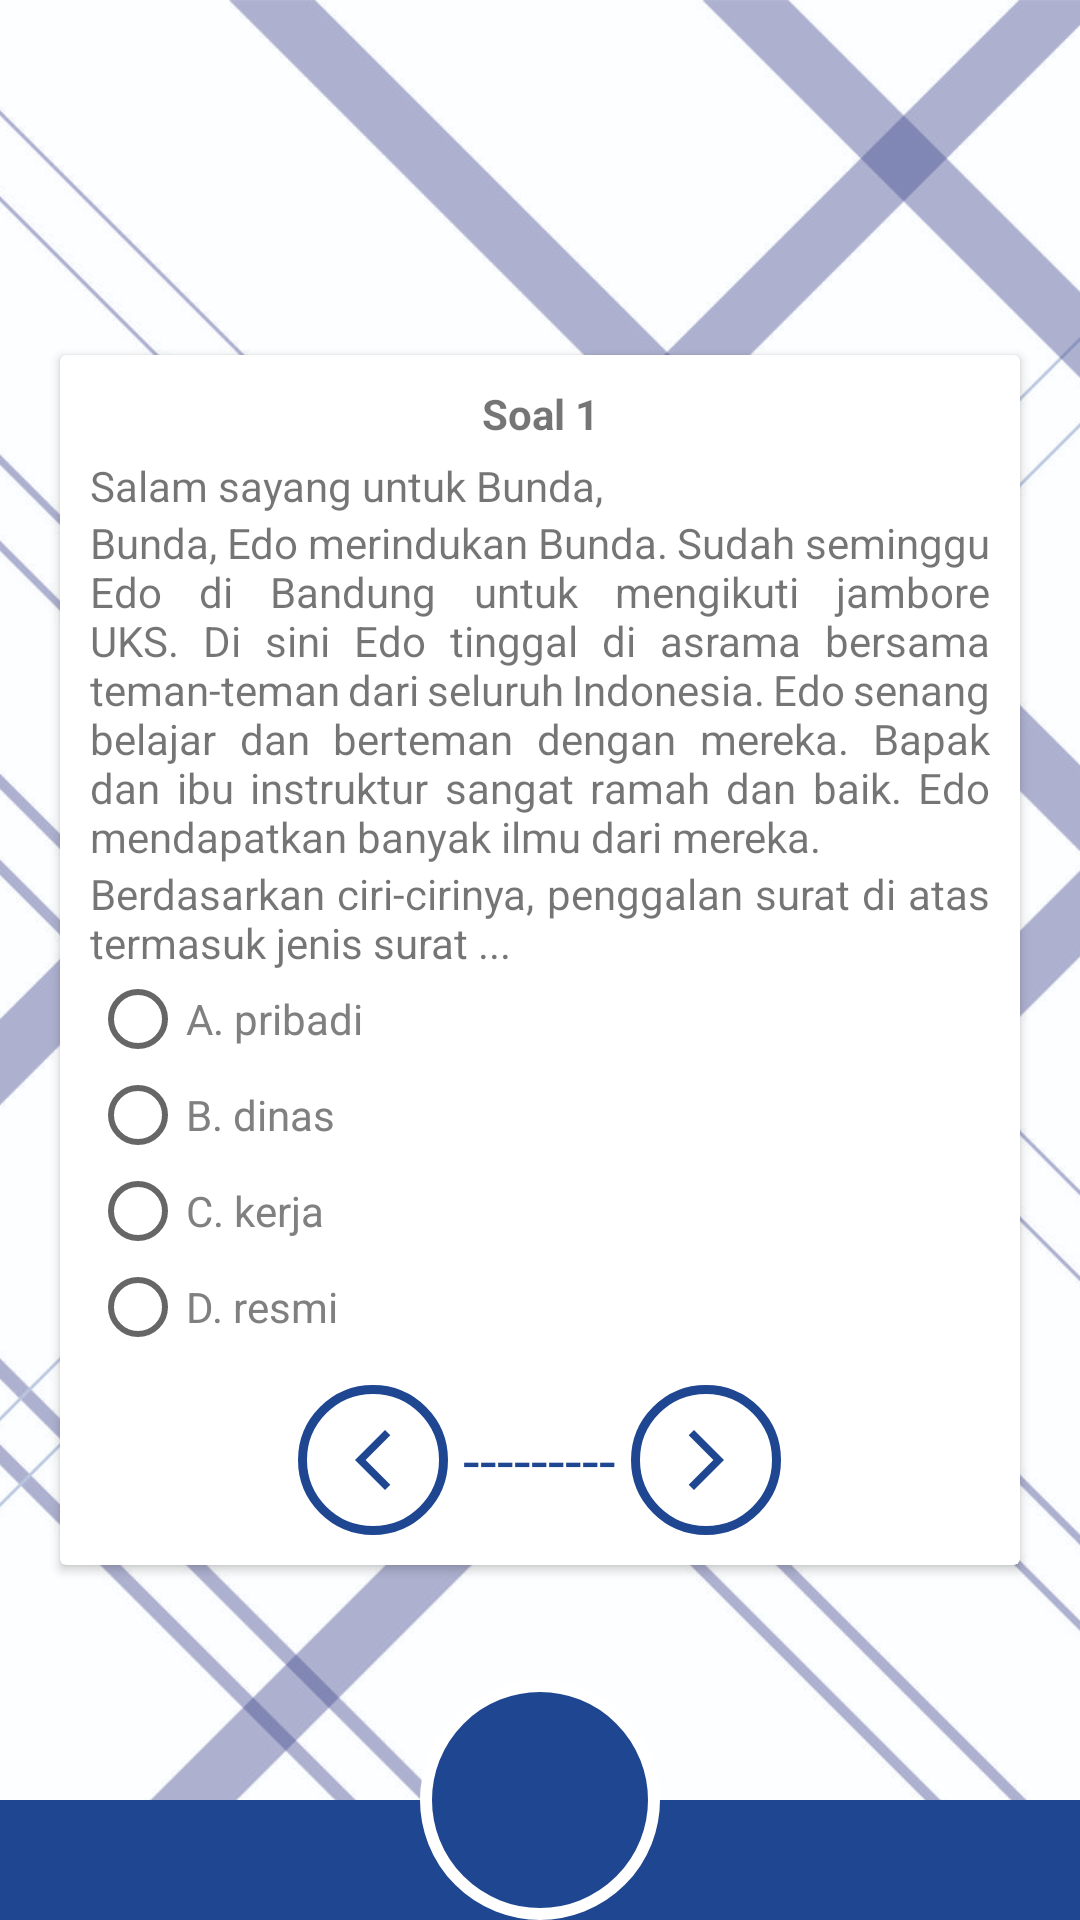

Screen size 1080x1920. Icon name, then its box in pixels as (x1, y1, x2, y2):
arrow back: (298, 1385, 448, 1535)
arrow forward: (631, 1385, 781, 1535)
